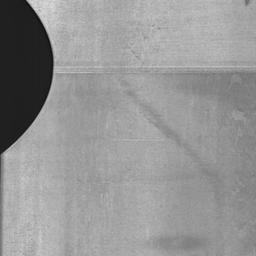Crescent gap: (0, 0, 54, 153)
